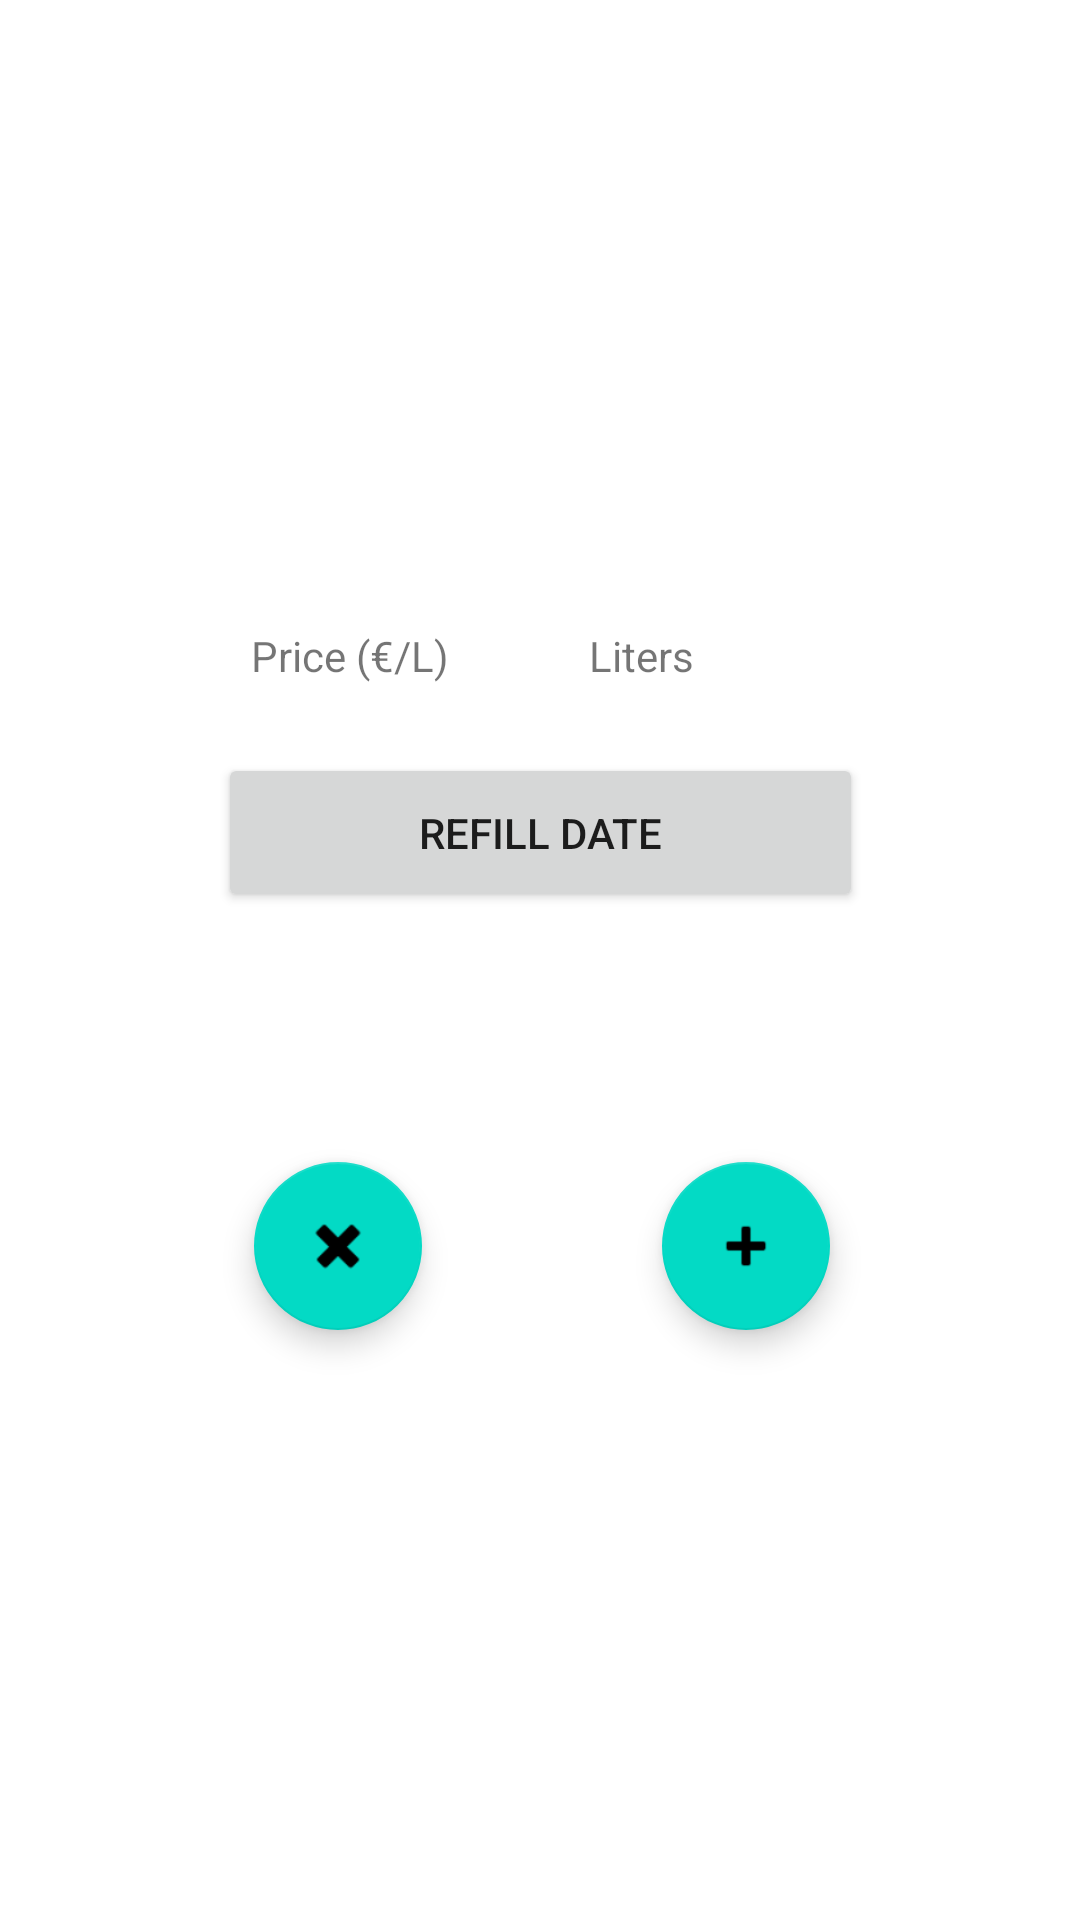

Screen size 1080*1920. Icon name, then its center in pixels as [x,y]:
Add refill: [746,1246]
Cancel adding refill: [338,1246]
